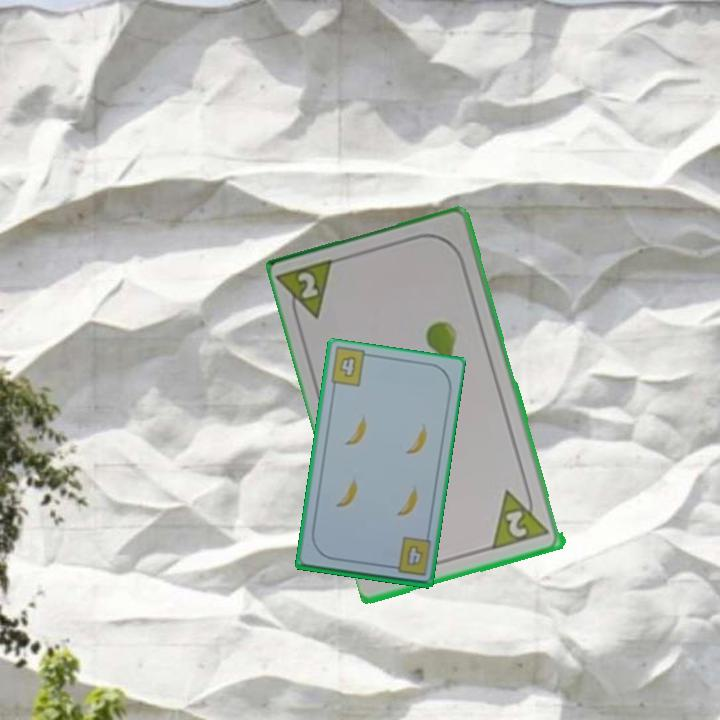2p: (276, 255, 340, 329), (490, 482, 553, 553)
4b: (385, 534, 432, 579), (336, 352, 358, 380)
